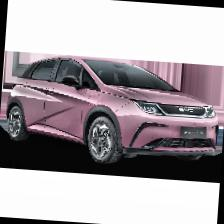EV: (4, 50, 224, 172)
